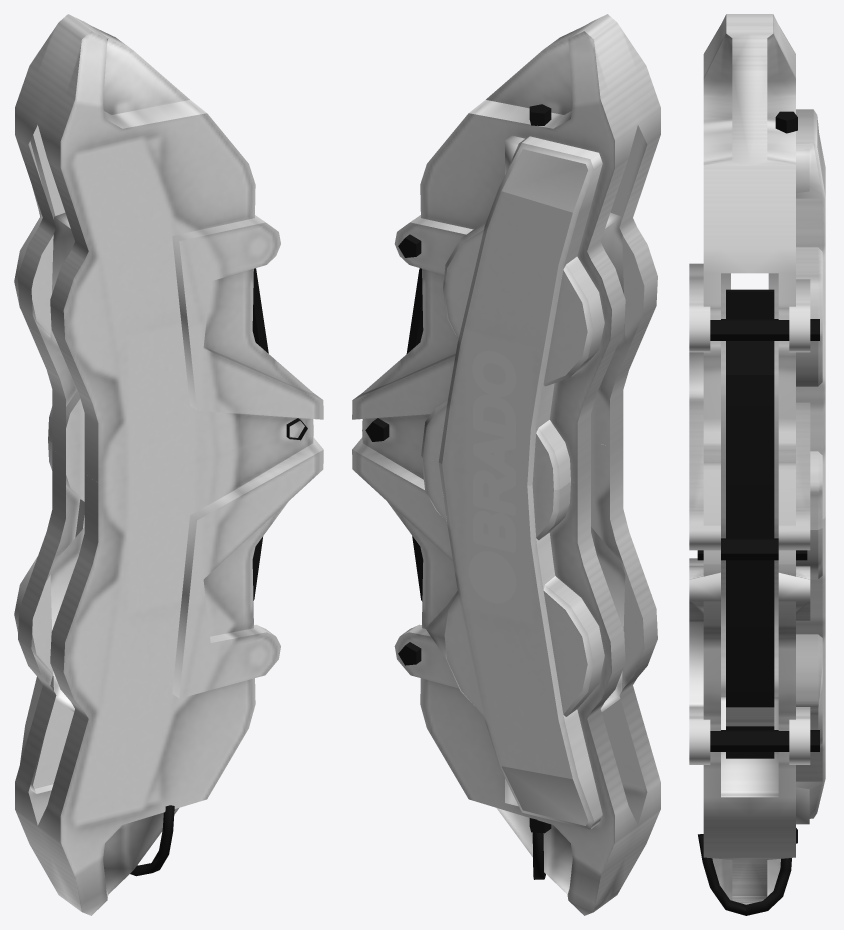
Rendered from brake_04_L.FBX.
The picture shows the model from 3 angles, left to right: view 1: azimuth 30°, elevation 25°; view 2: azimuth 150°, elevation 25°; view 3: azimuth 270°, elevation 25°; orthographic projection.
Visible parts, largest first — view 1: brake_015; view 2: brake_015; view 3: brake_015.
Boxes of the visible parts, x1,y1,x2,y2 form: brake_015: [14, 14, 323, 915]; brake_015: [352, 14, 660, 915]; brake_015: [689, 14, 825, 915].
Bounding box in the file's own units: 0.1086 × 0.0511 × 0.3587.
